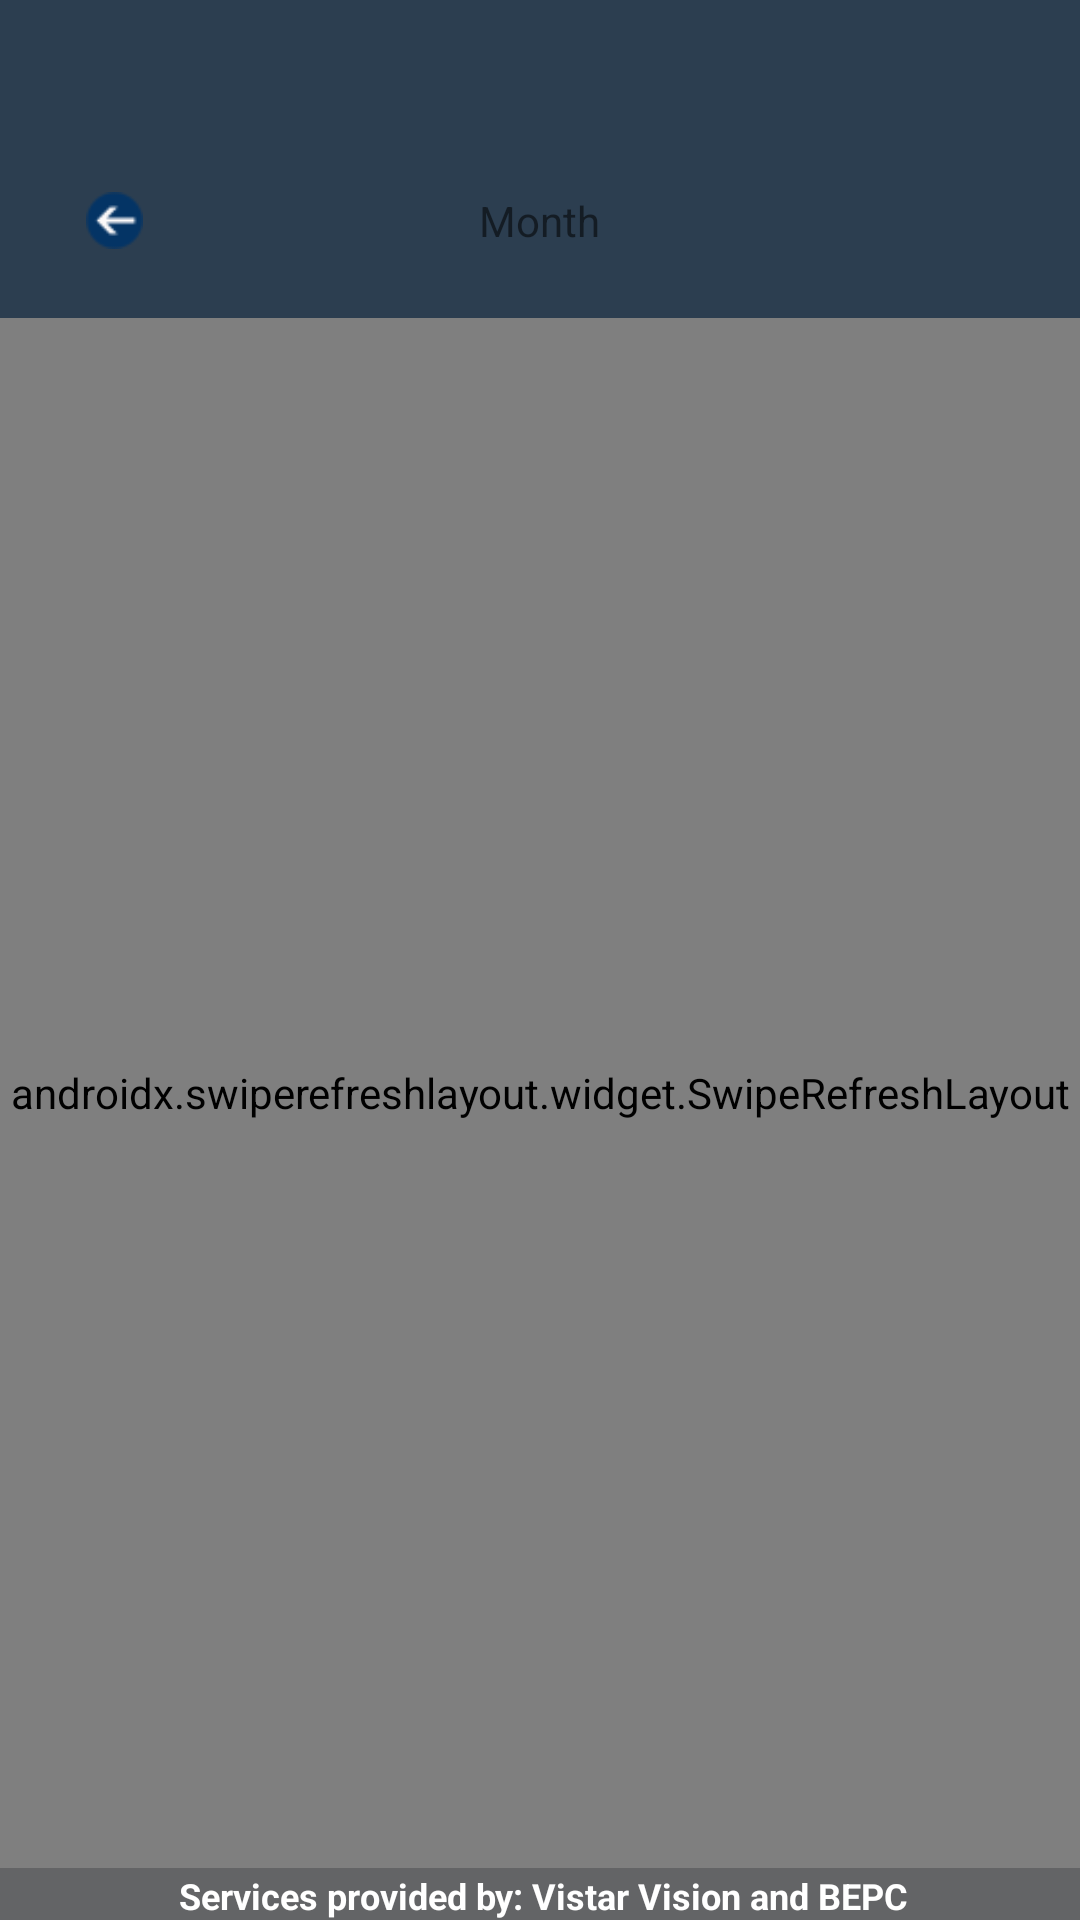

Where icons sit on this 1080 x 1920 app screen, as (x1, y1, x2, y2):
left arrow: (86, 192, 143, 249)
